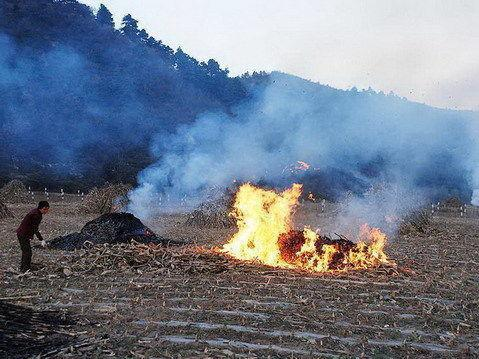fire: (213, 176, 335, 271), (339, 224, 398, 274), (295, 156, 309, 169)
